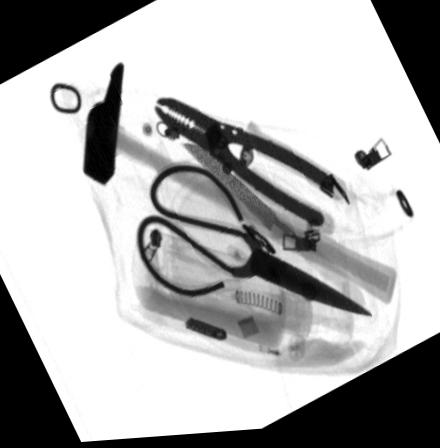Hammer: (81, 65, 397, 313)
Knife: (178, 145, 365, 319)
Pliers: (153, 98, 348, 241)
Scissors: (135, 164, 373, 323)
